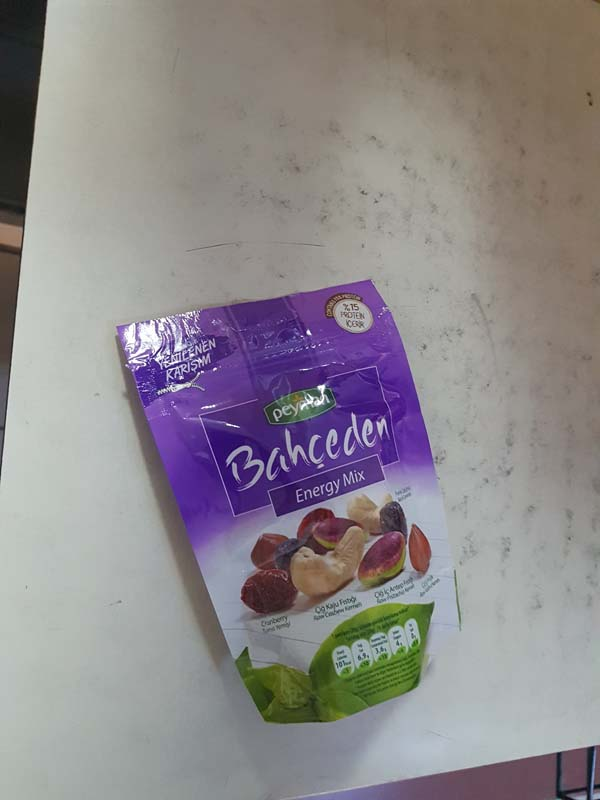bahcedenenergymix: (105, 278, 483, 723)
